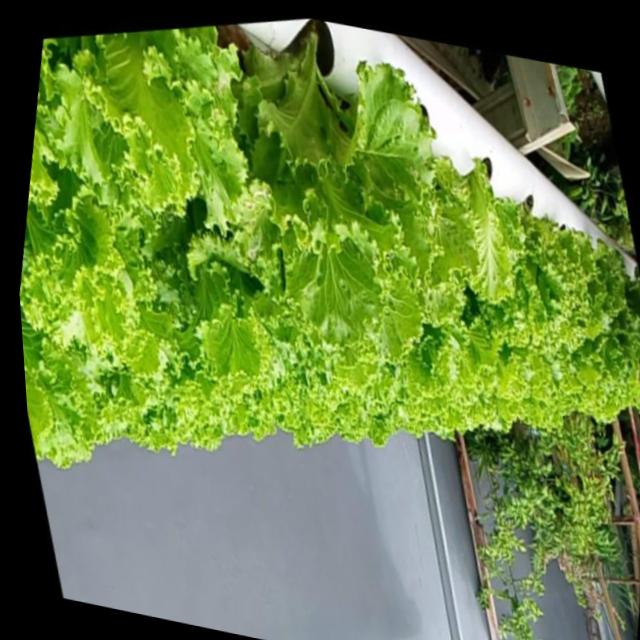Mature: (228, 20, 474, 356), (487, 195, 605, 360)
